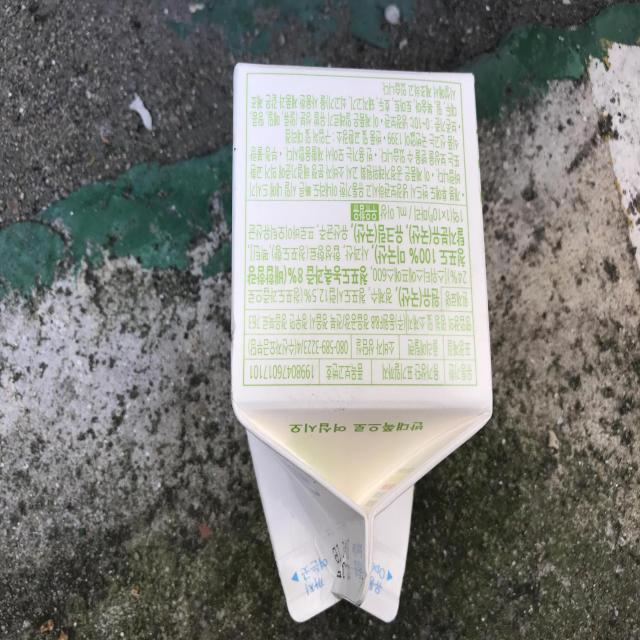paperpack: (231, 62, 493, 622)
